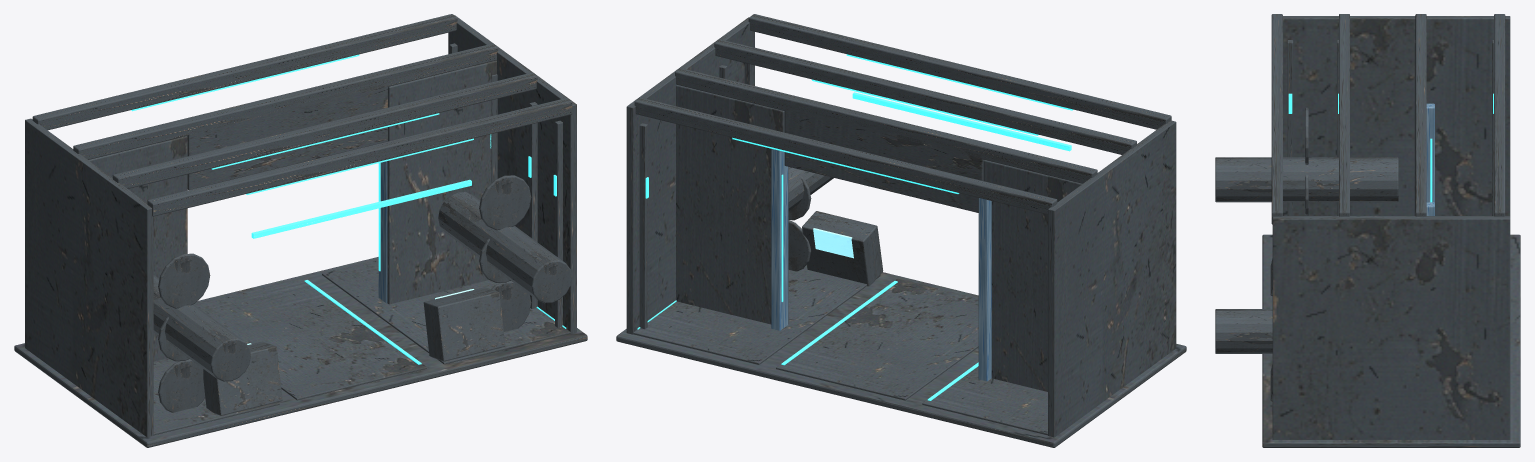
Rendered from archive_vestibule.glb.
The picture shows the model from 3 angles, left to right: view 1: azimuth 30°, elevation 25°; view 2: azimuth 150°, elevation 25°; view 3: azimuth 270°, elevation 25°; orthographic projection. The views are drawn at different scales.
Visible parts, largest first — view 1: SideLiner_-5.04, PartitionEast, FloorPlate_0.0, SideLiner_5.04, InteriorFloor, PartitionLintel, CeilingBeam_3.28, CeilingBeam_-1.45, CeilingBeam_1.85, CeilingBeam_0.22, ServerPylon_3.82, FloorPlate_3.5 (+13 smaller); view 2: SideLiner_-5.04, PartitionEast, FloorPlate_0.0, PartitionWest, SideLiner_5.04, InteriorFloor, FloorPlate_3.5, PartitionLintel, CeilingBeam_-1.45, CeilingBeam_3.28, CeilingBeam_1.85, CeilingBeam_0.22 (+9 smaller); view 3: SideLiner_5.04, SideLiner_-5.04, ServerPylon_-3.82, InteriorFloor, ServerPylon_3.82, CeilingBeam_3.28, CeilingBeam_0.22, CeilingBeam_-1.45, CeilingBeam_1.85, SideRib_-5.043.0, ThresholdPylon_-2.48, SideRib_-5.040.3 (+1 smaller).
Part boxes in pixels (x1,y1,x2,y2): SideLiner_-5.04: (25, 118, 153, 437); PartitionEast: (387, 60, 496, 304); FloorPlate_0.0: (195, 277, 426, 400); SideLiner_5.04: (448, 15, 576, 333); InteriorFloor: (14, 257, 587, 447); PartitionLintel: (187, 83, 387, 189); CeilingBeam_3.28: (147, 98, 572, 216); CeilingBeam_-1.45: (32, 14, 457, 130); CeilingBeam_1.85: (112, 72, 537, 188); CeilingBeam_0.22: (73, 43, 498, 159); ServerPylon_3.82: (438, 192, 571, 303); FloorPlate_3.5: (322, 259, 570, 364); SideLiner_-5.04: (1048, 120, 1176, 437); PartitionEast: (676, 85, 788, 324); FloorPlate_0.0: (776, 278, 978, 400); PartitionWest: (983, 160, 1082, 391); SideLiner_5.04: (626, 17, 754, 334); InteriorFloor: (616, 272, 1186, 447); FloorPlate_3.5: (633, 265, 880, 364); PartitionLintel: (784, 107, 983, 212); CeilingBeam_-1.45: (634, 97, 1057, 214); CeilingBeam_3.28: (748, 14, 1171, 129); CeilingBeam_1.85: (714, 39, 1136, 154); CeilingBeam_0.22: (675, 68, 1097, 183); SideLiner_5.04: (1272, 216, 1510, 439); SideLiner_-5.04: (1283, 16, 1510, 216); ServerPylon_-3.82: (1215, 157, 1398, 202); InteriorFloor: (1262, 234, 1520, 447); ServerPylon_3.82: (1215, 309, 1272, 353); CeilingBeam_3.28: (1271, 14, 1282, 224); CeilingBeam_0.22: (1415, 14, 1426, 216); CeilingBeam_-1.45: (1494, 14, 1505, 216); CeilingBeam_1.85: (1339, 14, 1349, 216); SideRib_-5.043.0: (1287, 40, 1293, 215); ThresholdPylon_-2.48: (1426, 103, 1434, 202); SideRib_-5.040.3: (1414, 40, 1415, 215).
Size of the model in its own units: 10.5 by 5.43 by 6.5.
5 materials, 5 textured.
